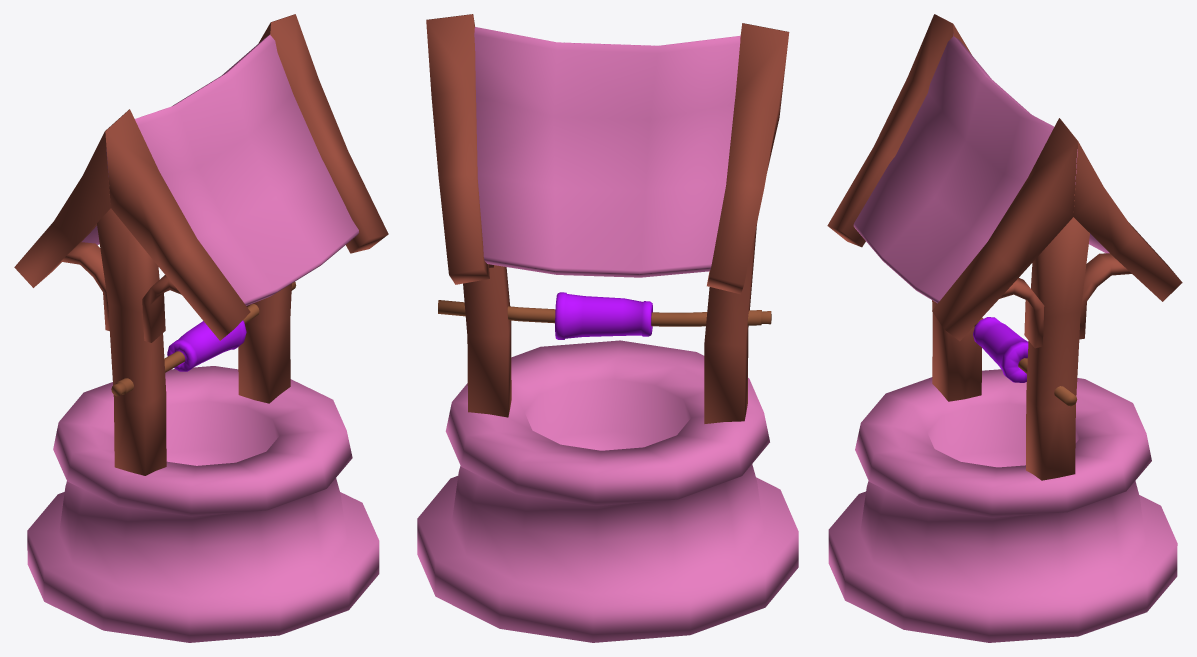
Rendered from Pozo.fbx.
The picture shows the model from 3 angles, left to right: view 1: azimuth 30°, elevation 25°; view 2: azimuth 150°, elevation 25°; view 3: azimuth 270°, elevation 25°; orthographic projection. The views are drawn at different scales.
Parts seen in each view (by area): view 1: Pozo; view 2: Pozo; view 3: Pozo.
Boxes of the visible parts, x1,y1,x2,y2 form: Pozo: (14, 14, 388, 642); Pozo: (417, 14, 798, 642); Pozo: (827, 14, 1182, 642).
Size of the model in its own units: 145 by 223 by 144.
